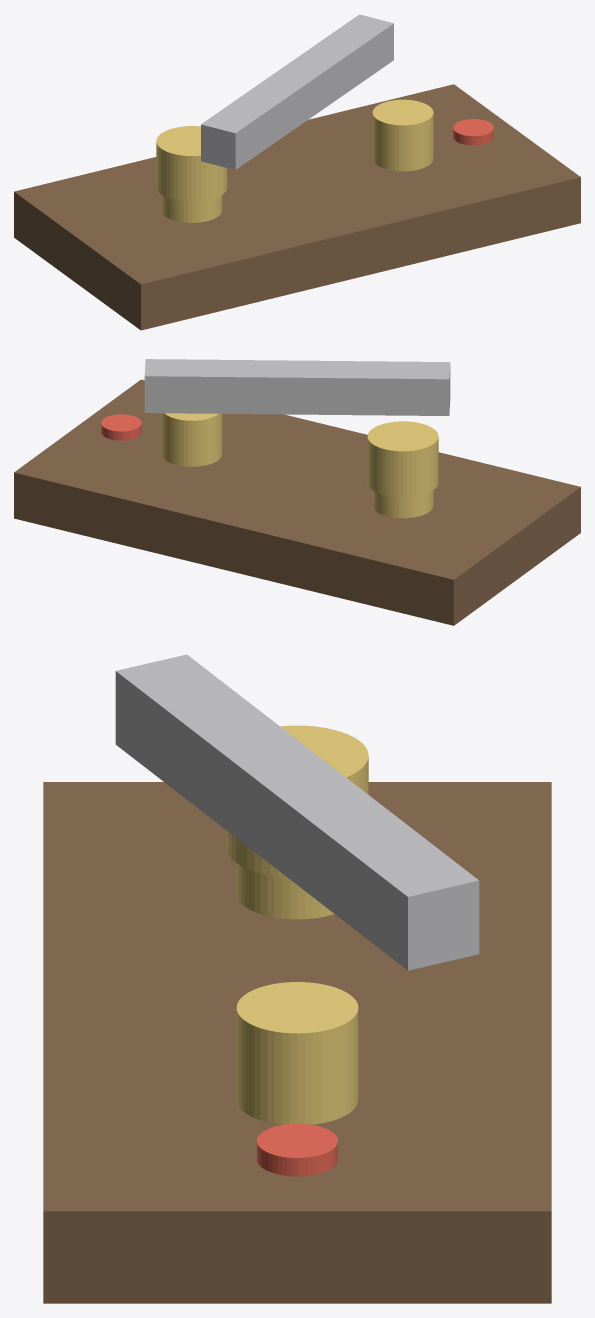
Rendered from switch.glb.
The picture shows the model from 3 angles, top to bottom: view 1: azimuth 30°, elevation 25°; view 2: azimuth 150°, elevation 25°; view 3: azimuth 270°, elevation 25°; orthographic projection. The views are drawn at different scales.
Visible parts, largest first — view 1: switch-base, switch-arm, switch-contact-right, switch-pivot, switch-contact-left, switch-indicator; view 2: switch-base, switch-arm, switch-pivot, switch-contact-right, switch-contact-left, switch-indicator; view 3: switch-base, switch-arm, switch-contact-right, switch-pivot, switch-indicator, switch-contact-left.
Part boxes in pixels (x1=…): switch-base: x1=14, y1=84, x2=580, y2=330; switch-arm: x1=201, y1=14, x2=393, y2=169; switch-contact-right: x1=372, y1=99, x2=433, y2=171; switch-pivot: x1=156, y1=126, x2=227, y2=201; switch-contact-left: x1=161, y1=195, x2=222, y2=222; switch-indicator: x1=453, y1=119, x2=493, y2=145; switch-base: x1=14, y1=379, x2=580, y2=625; switch-arm: x1=144, y1=359, x2=450, y2=415; switch-pivot: x1=367, y1=421, x2=438, y2=497; switch-contact-right: x1=161, y1=413, x2=222, y2=466; switch-contact-left: x1=372, y1=490, x2=433, y2=518; switch-indicator: x1=101, y1=414, x2=141, y2=440; switch-base: x1=43, y1=782, x2=551, y2=1303; switch-arm: x1=115, y1=654, x2=479, y2=970; switch-contact-right: x1=236, y1=982, x2=358, y2=1124; switch-pivot: x1=226, y1=725, x2=368, y2=877; switch-indicator: x1=257, y1=1123, x2=337, y2=1176; switch-contact-left: x1=236, y1=863, x2=333, y2=919.
Size of the model in its own units: 0.05 by 0.017 by 0.025.
